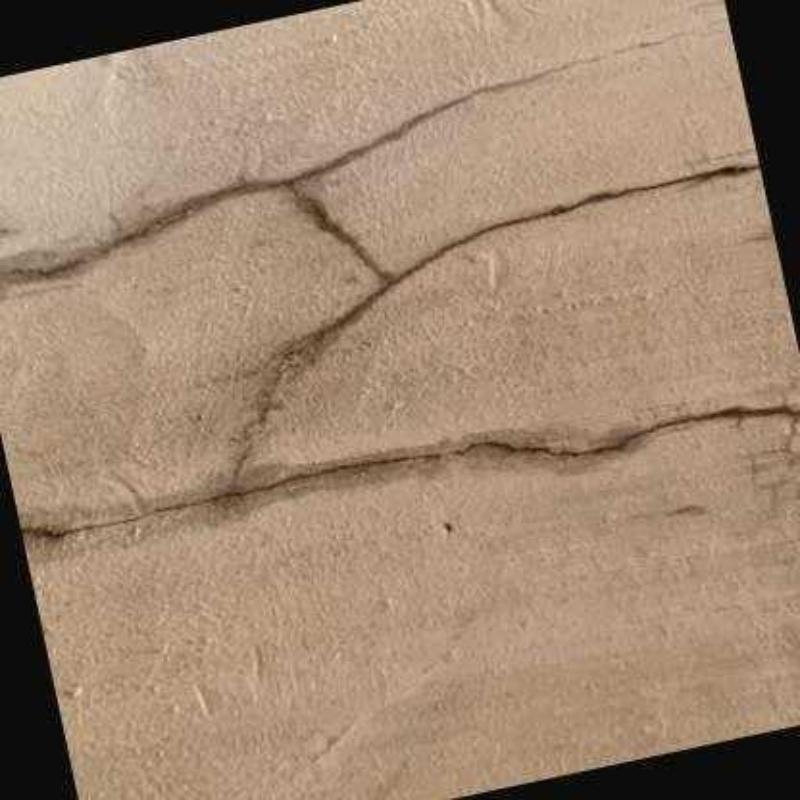pothole: (0, 31, 800, 539)
